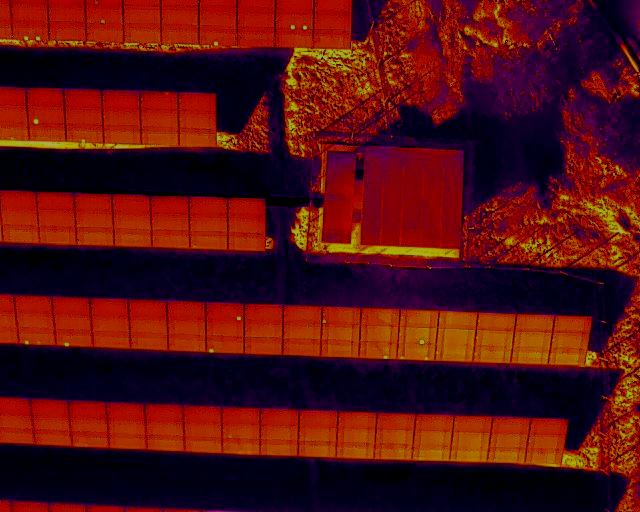Cell: (206, 302, 244, 322), (199, 25, 236, 44), (85, 5, 122, 23), (398, 327, 437, 344), (55, 329, 93, 346), (359, 342, 397, 359), (66, 125, 103, 142), (28, 107, 64, 124), (323, 308, 361, 324), (207, 337, 244, 353)
Cell-Multi: (275, 8, 312, 29), (12, 21, 49, 40), (17, 327, 55, 345), (397, 344, 436, 360)
No-Anomaly: (168, 300, 205, 322), (129, 299, 167, 319), (244, 305, 283, 324), (91, 297, 128, 317), (140, 91, 178, 110), (161, 24, 199, 43), (52, 298, 90, 317), (283, 306, 321, 325), (515, 314, 555, 332), (237, 8, 274, 27), (314, 9, 351, 28), (321, 339, 360, 357), (438, 311, 477, 329), (200, 6, 236, 25), (228, 198, 266, 216), (69, 400, 107, 418), (10, 3, 48, 21), (103, 126, 141, 144), (227, 232, 265, 250), (477, 313, 515, 331), (237, 28, 273, 47), (76, 227, 114, 245), (400, 309, 438, 327), (102, 90, 139, 108), (123, 6, 160, 24), (179, 128, 216, 146), (222, 407, 259, 425), (161, 6, 198, 24), (48, 22, 85, 40), (313, 30, 350, 48), (362, 308, 399, 326), (190, 231, 227, 249), (152, 230, 189, 248), (282, 339, 321, 356), (321, 324, 360, 341), (475, 331, 514, 348), (189, 214, 228, 231), (553, 315, 592, 332), (0, 191, 36, 209), (27, 88, 63, 106), (3, 225, 39, 243), (37, 192, 75, 209), (376, 413, 414, 430), (64, 89, 102, 106), (106, 402, 144, 419), (48, 4, 86, 21), (178, 93, 216, 110), (65, 107, 103, 124), (140, 110, 178, 127), (260, 409, 298, 426), (71, 431, 109, 448), (338, 411, 376, 428), (141, 127, 179, 144), (92, 331, 130, 348), (54, 314, 92, 331), (512, 331, 552, 347), (413, 445, 450, 462), (145, 404, 182, 421), (31, 400, 68, 417), (75, 193, 112, 210), (39, 227, 76, 244), (114, 229, 151, 246), (275, 30, 312, 47), (130, 333, 167, 350), (123, 24, 160, 41), (529, 418, 568, 434), (487, 447, 526, 463), (415, 414, 454, 430), (492, 417, 531, 433), (453, 416, 492, 432), (435, 344, 474, 360), (103, 109, 139, 126), (549, 348, 585, 365), (336, 443, 374, 459), (151, 196, 189, 212), (112, 195, 150, 211), (299, 426, 337, 442), (299, 410, 337, 426), (189, 197, 227, 213), (299, 441, 337, 457), (375, 444, 413, 460), (283, 324, 321, 340), (413, 430, 453, 445), (436, 329, 476, 344), (38, 210, 75, 226), (222, 439, 259, 455), (76, 211, 113, 227), (451, 446, 488, 462), (183, 406, 220, 422), (179, 111, 216, 127), (151, 213, 188, 229), (113, 212, 150, 228), (168, 336, 205, 352), (15, 297, 52, 313), (17, 313, 54, 329), (245, 338, 282, 354), (260, 425, 299, 440), (376, 430, 415, 445), (228, 218, 267, 233), (551, 332, 590, 347), (1, 209, 37, 225), (29, 124, 65, 140), (86, 24, 122, 40), (107, 419, 145, 434), (260, 441, 298, 456), (69, 417, 107, 432), (222, 424, 260, 439), (511, 348, 549, 363), (474, 347, 512, 362), (360, 326, 398, 341), (147, 435, 184, 450), (146, 421, 183, 436), (109, 434, 146, 449), (184, 437, 221, 452), (92, 317, 129, 332), (206, 323, 243, 338), (337, 428, 376, 442), (490, 434, 529, 448), (130, 320, 166, 335), (452, 432, 490, 446), (527, 434, 565, 448), (184, 422, 222, 436), (168, 322, 206, 336), (245, 323, 282, 337), (526, 449, 562, 463), (33, 416, 69, 430), (34, 430, 69, 444), (272, 175, 273, 179)
